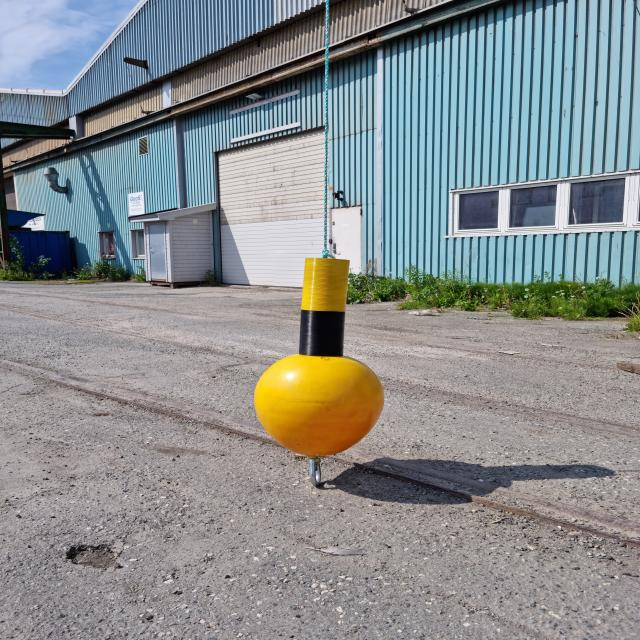west: (254, 258, 387, 458)
